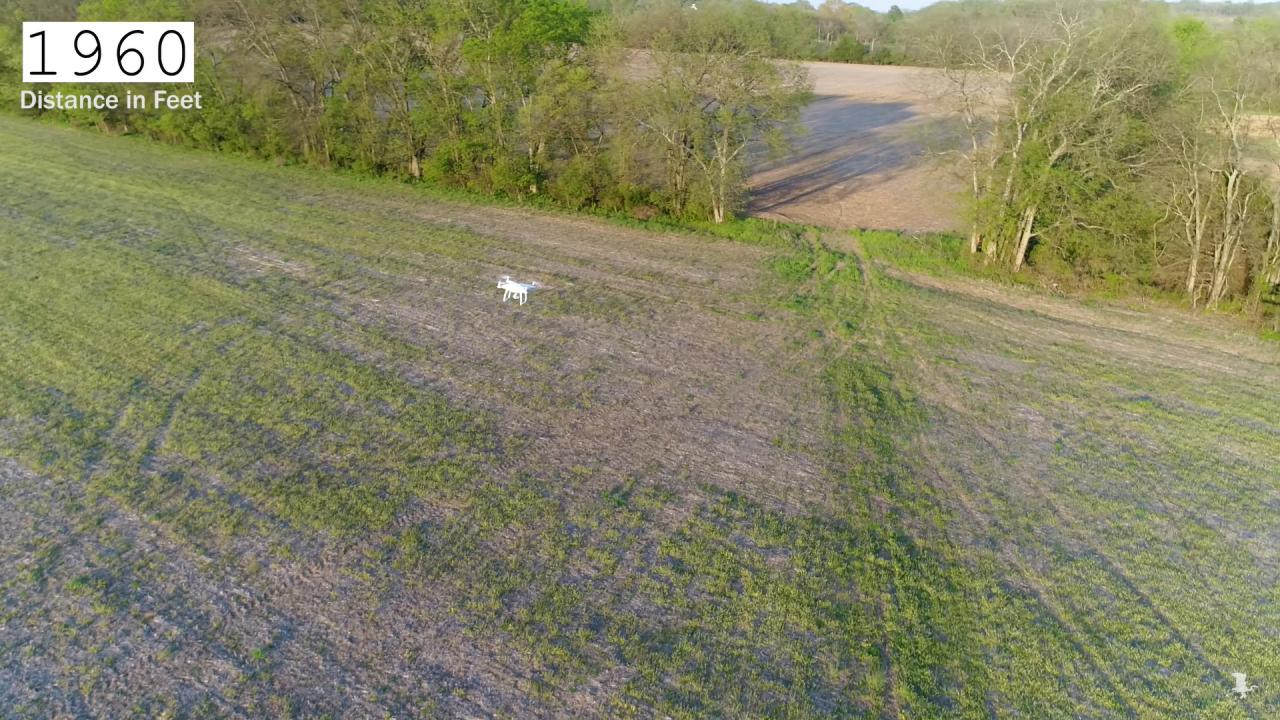Drone: (486, 267, 550, 314)
